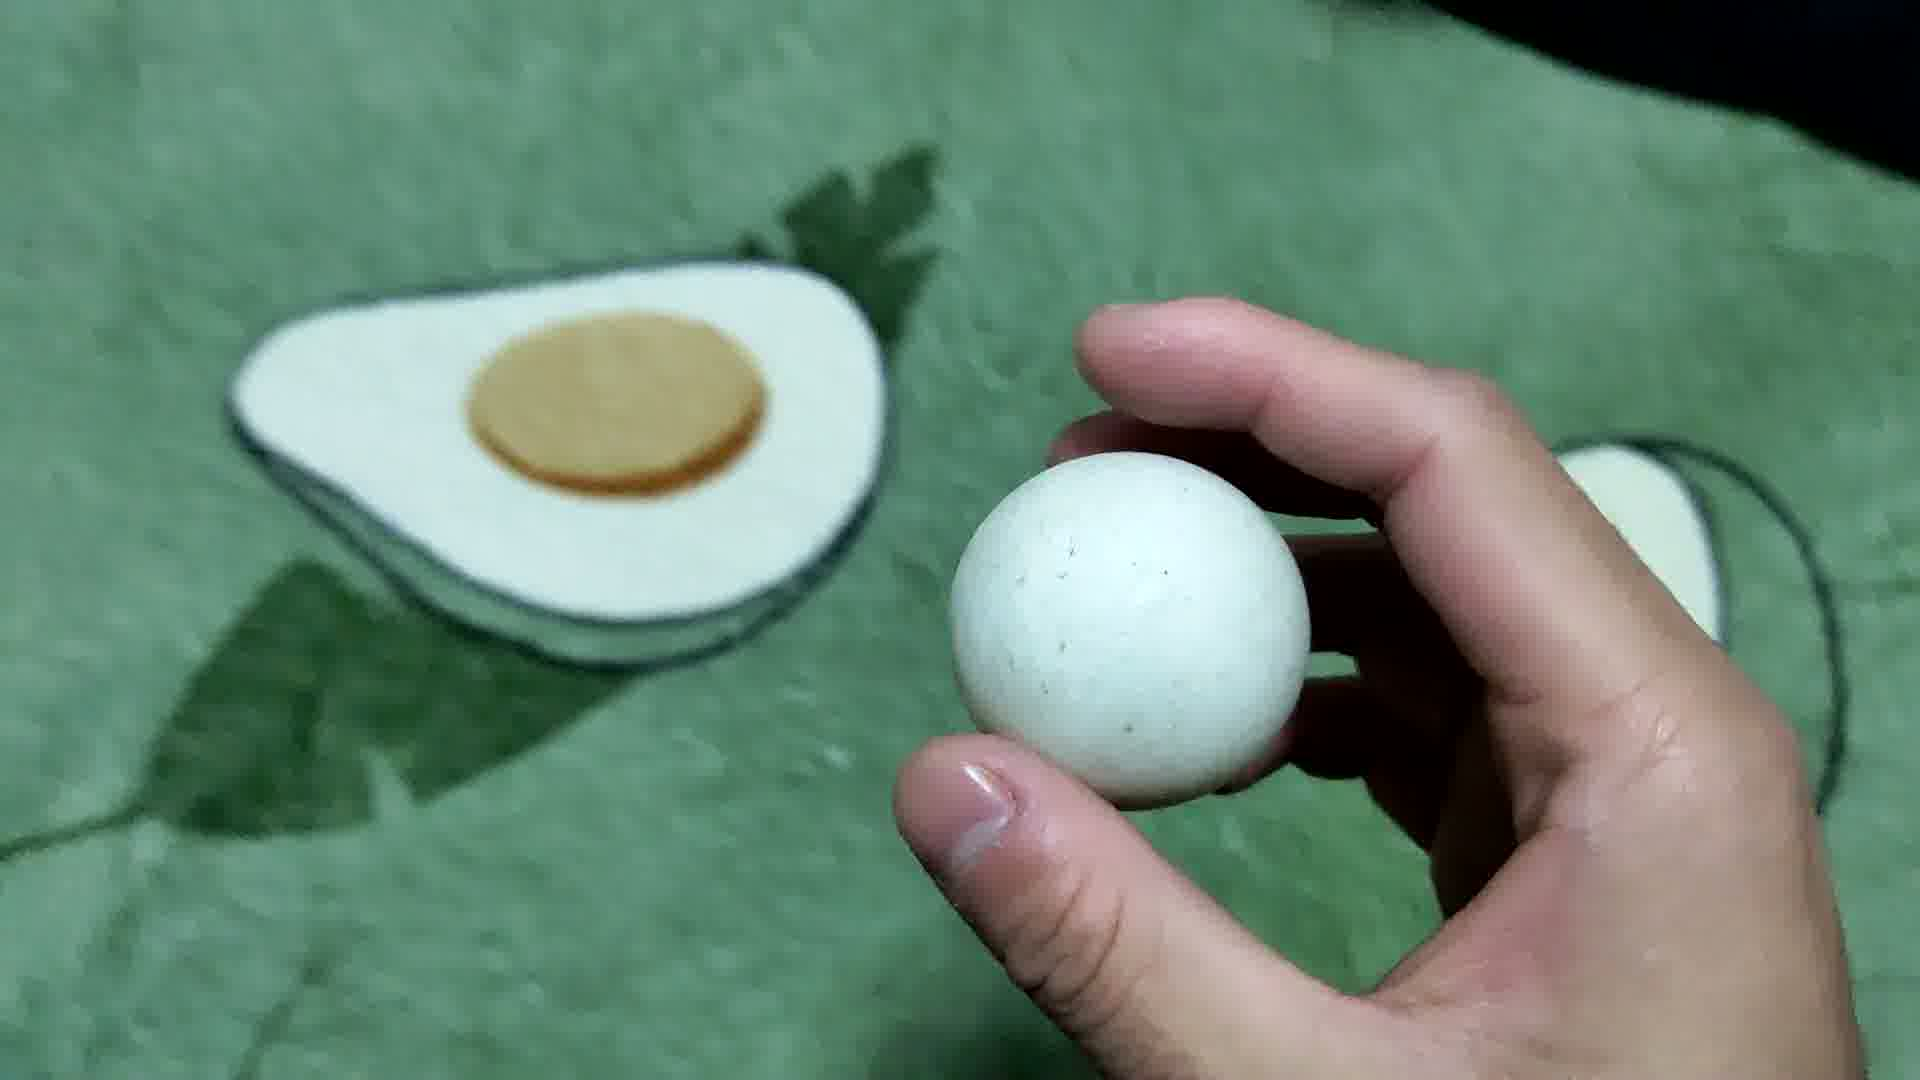Ball: (949, 444, 1320, 814)
